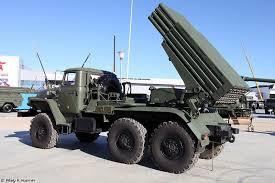MIL_SAM_TEL: (22, 3, 250, 174)
